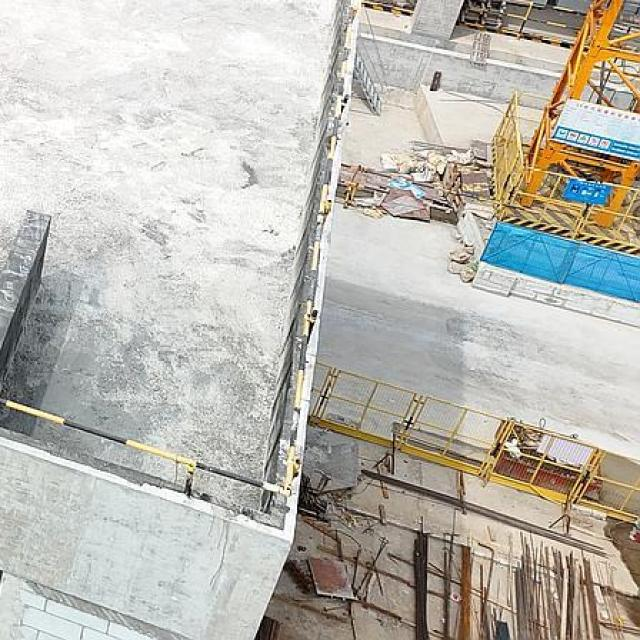edge_guardrail: (0, 0, 360, 500), (462, 0, 588, 36)
